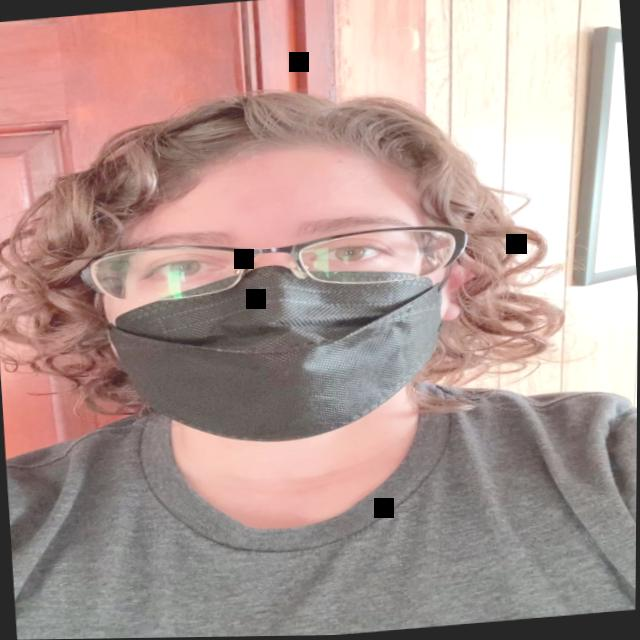Mask: (80, 128, 482, 458)
